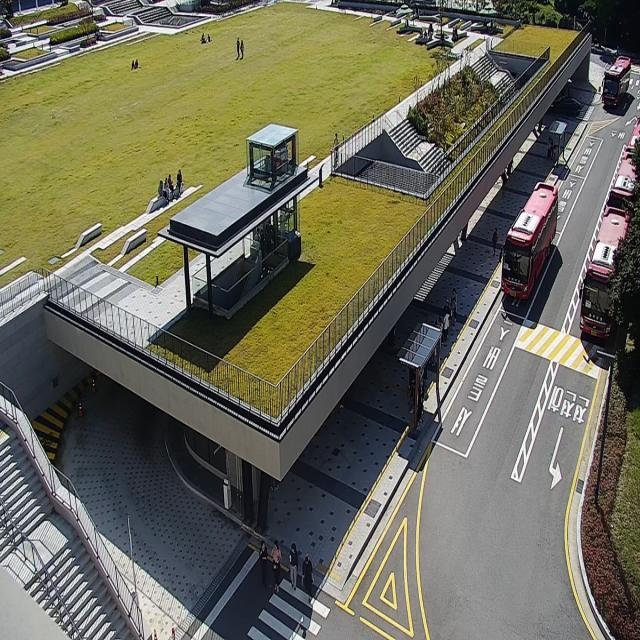queue: (411, 288, 457, 438)
